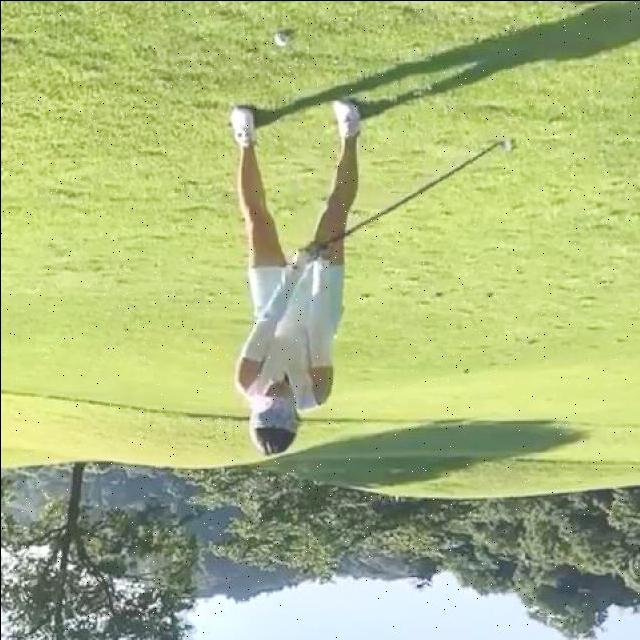ClubHandle: (318, 136, 515, 248)
ClubHead: (501, 136, 515, 148)
GolfBall: (274, 31, 289, 44)
